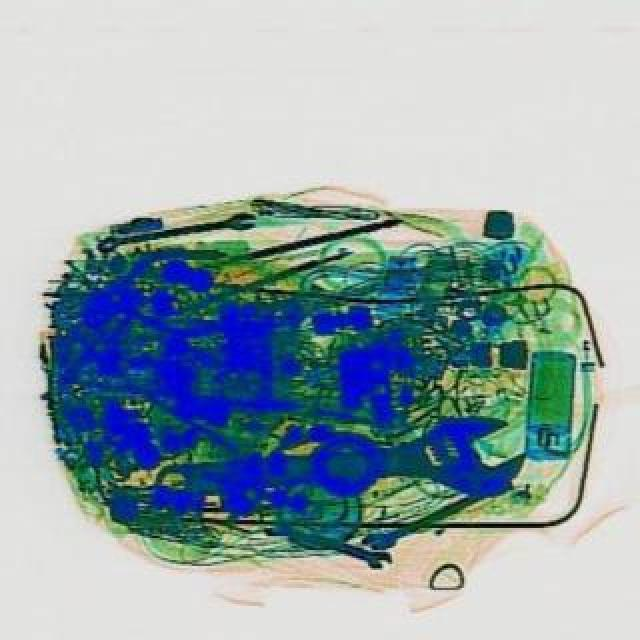scissors: (154, 412, 532, 532), (366, 494, 490, 560), (98, 214, 260, 258), (274, 524, 398, 578)
